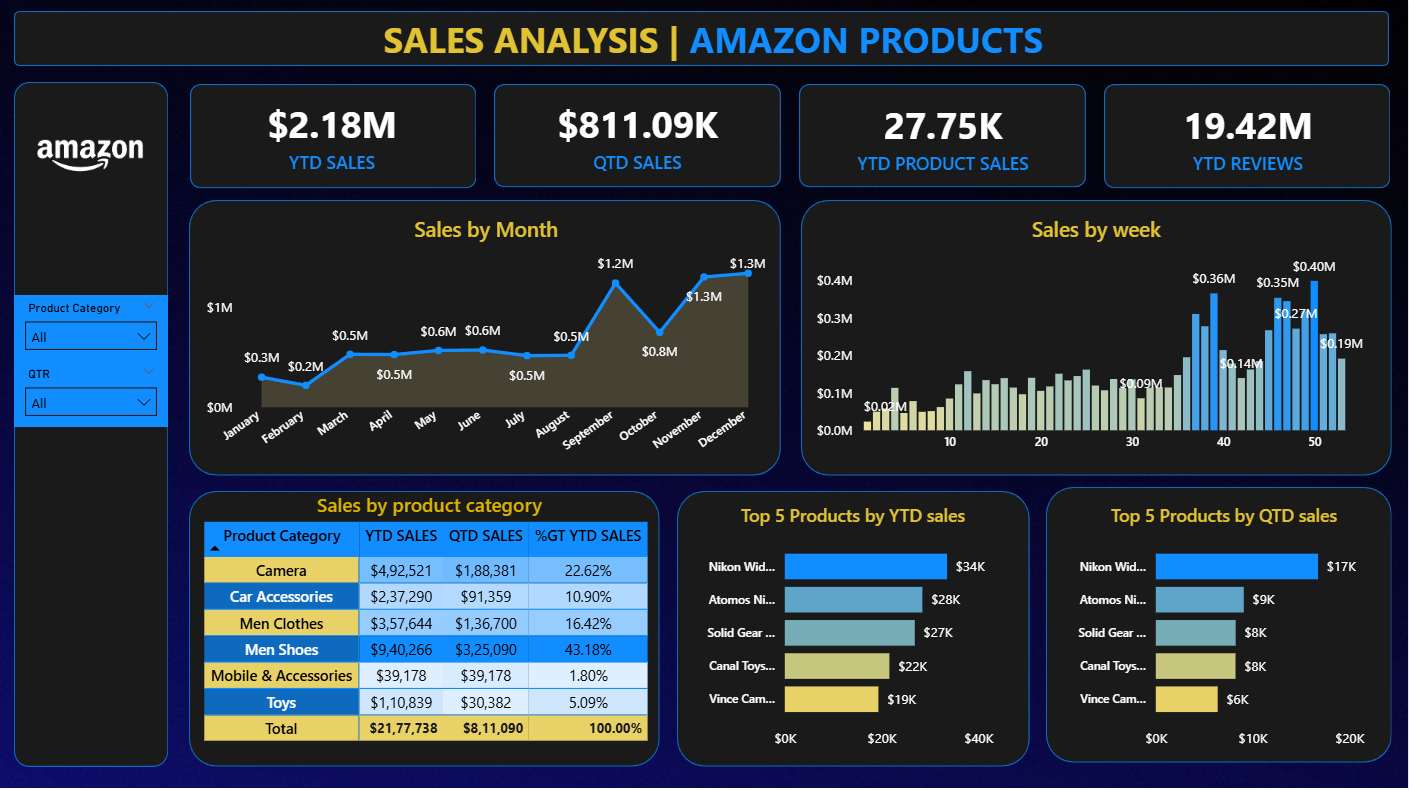

This screenshot's page, from the dashboard's own definition file:
{"tool":"powerbi","page":{"name":"Page 1","canvas":[1280,720],"ordinal":0},"visuals":[{"type":"shape","box":[12.8,11.6,1250,50],"z":0},{"type":"textbox","box":[314.8,10.5,667.9,53.4],"z":1000},{"type":"shape","box":[172.2,183.5,538.1,250.5],"z":2000},{"type":"group","id":"g1","title":"Group 2","box":[172.2,77.3,1092.8,95.9],"z":3000},{"type":"shape","box":[172.7,77.9,260.4,94.8],"z":3000,"group":"g2"},{"type":"shape","box":[1003.7,77.9,260.4,94.8],"z":3000,"group":"g1"},{"type":"shape","box":[12.4,76.3,140.2,622.7],"z":4000},{"type":"shape","box":[726.6,78.3,260.8,93.8],"z":4000,"group":"g2"},{"type":"card","fields":{"Values":["Amazon_Data.YTD REVIEWS"]},"box":[1005.2,78.3,259.8,94.8],"z":4000,"group":"g1"},{"type":"group","id":"g2","title":"Group 1","box":[172.2,77.3,815.5,95.9],"z":5000,"group":"g1"},{"type":"shape","box":[449.4,78.3,260.8,93.8],"z":5000,"group":"g2"},{"type":"areaChart","title":"Sales by Month","fields":{"Y":["Sum(Amazon_Data.Price(Dollar))"],"Category":["Date.Date.Variation.Date Hierarchy.Month"]},"box":[182.5,196.9,518.6,224.7],"z":5000},{"type":"shape","box":[727.8,183.5,537.1,250.5],"z":6000},{"type":"card","fields":{"Values":["Amazon_Data.YTD_Sales"]},"box":[172.2,77.3,259.8,94.8],"z":7000,"group":"g2"},{"type":"columnChart","title":"Sales by week","fields":{"Y":["Sum(Amazon_Data.Price(Dollar))"],"Category":["Date.Week_Numbers"]},"box":[737.1,196.9,518.6,224.7],"z":7000},{"type":"shape","box":[172.2,448.5,427.8,250.5],"z":8000},{"type":"card","fields":{"Values":["Amazon_Data.YTD_PRODUCT_SALES"]},"box":[727.9,78.3,259.8,94.8],"z":9000,"group":"g2"},{"type":"pivotTable","title":"Sales by product category","fields":{"Values":["Amazon_Data.YTD SALES1","select","Amazon_Data.QTD SALES","Amazon_Data.YTD SALES"],"Rows":["Amazon_Data.Product Category"]},"box":[182.5,448.5,417.5,242.3],"z":9000},{"type":"shape","box":[615.5,448.5,320.6,250.5],"z":10000},{"type":"card","fields":{"Values":["Amazon_Data.QTD_SALES"]},"box":[449.5,77.3,260.8,94.8],"z":10001,"group":"g2"},{"type":"shape","box":[950.5,444.3,314.4,250.5],"z":11000},{"type":"clusteredBarChart","title":"Top 5 Products by YTD sales","fields":{"Category":["Amazon_Data.Product Description"],"Y":["Amazon_Data.YTD SALES"]},"box":[625.8,458.8,300,232],"z":12000},{"type":"clusteredBarChart","title":"Top 5 Products by QTD sales","fields":{"Category":["Amazon_Data.Product Description"],"Y":["Amazon_Data.QTD SALES"]},"box":[962.9,458.8,300,232],"z":12001},{"type":"slicer","fields":{"Values":["Amazon_Data.Product Category"]},"box":[12.4,270.1,140.2,59.8],"z":12002},{"type":"slicer","fields":{"Values":["Date.QTR"]},"box":[12.4,329.9,140.2,59.8],"z":12003},{"type":"image","box":[28.9,89.7,106.2,107.2],"z":12004}]}

Visuals, with their boxes in screenshot pixels (x1, y1, x2, y2), scaled from the page's 1280x720 canvas onto the 1409x790 screenshot:
shape: [14, 13, 1390, 68]
textbox: [347, 12, 1082, 70]
shape: [190, 201, 782, 476]
"Group 2" group: [190, 85, 1392, 190]
shape: [190, 85, 477, 189]
shape: [1105, 85, 1391, 189]
shape: [14, 84, 168, 767]
shape: [800, 86, 1087, 189]
card - Amazon_Data.YTD REVIEWS: [1107, 86, 1392, 190]
"Group 1" group: [190, 85, 1087, 190]
shape: [495, 86, 782, 189]
"Sales by Month" areaChart: [201, 216, 772, 463]
shape: [801, 201, 1392, 476]
card - Amazon_Data.YTD_Sales: [190, 85, 476, 189]
"Sales by week" columnChart: [811, 216, 1382, 463]
shape: [190, 492, 660, 767]
card - Amazon_Data.YTD_PRODUCT_SALES: [801, 86, 1087, 190]
"Sales by product category" pivotTable: [201, 492, 660, 758]
shape: [678, 492, 1030, 767]
card - Amazon_Data.QTD_SALES: [495, 85, 782, 189]
shape: [1046, 487, 1392, 762]
"Top 5 Products by YTD sales" clusteredBarChart: [689, 503, 1019, 758]
"Top 5 Products by QTD sales" clusteredBarChart: [1060, 503, 1390, 758]
slicer - Amazon_Data.Product Category: [14, 296, 168, 362]
slicer - Date.QTR: [14, 362, 168, 428]
image: [32, 98, 149, 216]
